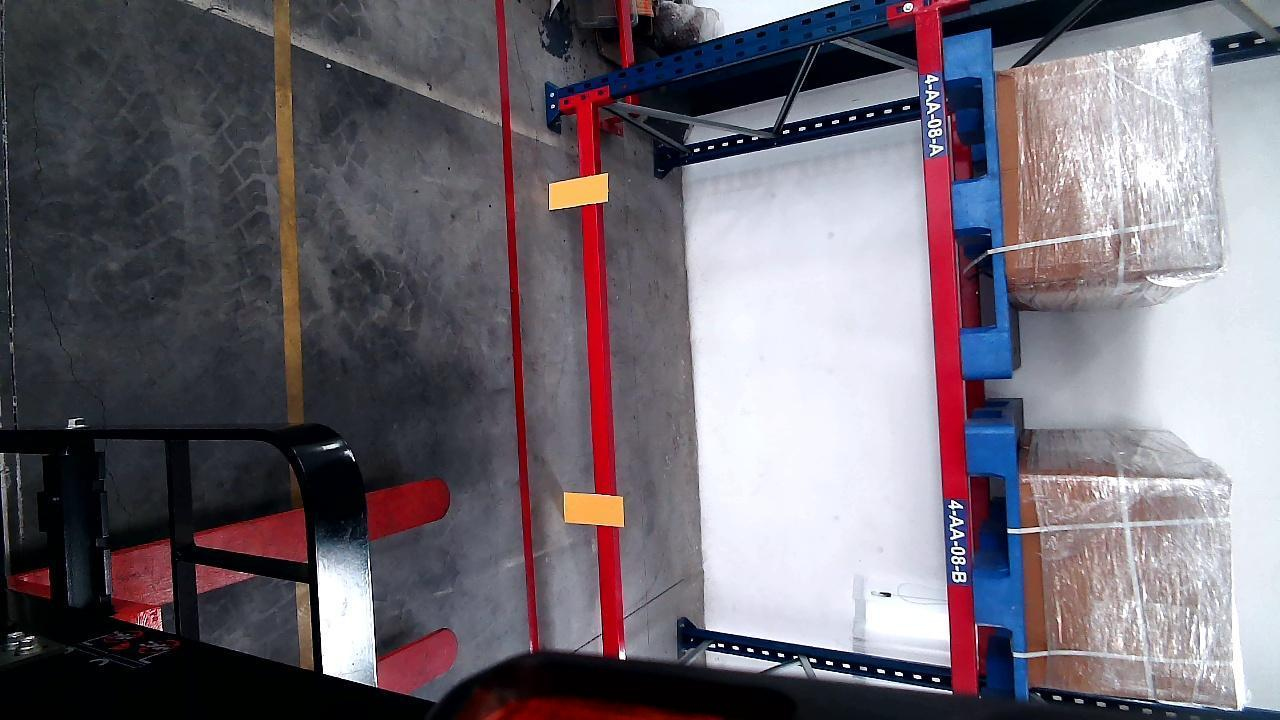h_rack: (919, 1, 975, 701), (578, 98, 621, 658)
orange_strip: (547, 173, 608, 210), (563, 491, 624, 526)
red_line: (495, 0, 543, 652)
small_pallet: (945, 30, 1009, 377), (970, 429, 1026, 689)
yellow_line: (275, 0, 305, 423)
